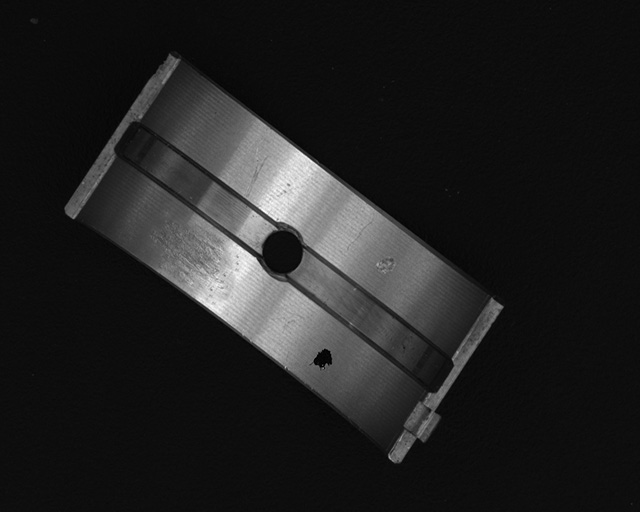blot: (311, 348, 334, 371)
bruise: (375, 256, 398, 275)
gap: (290, 254, 446, 387), (115, 120, 269, 242)
hole: (258, 227, 306, 277)
nick: (247, 148, 267, 201), (344, 222, 372, 252)
scratch: (146, 221, 237, 301)
